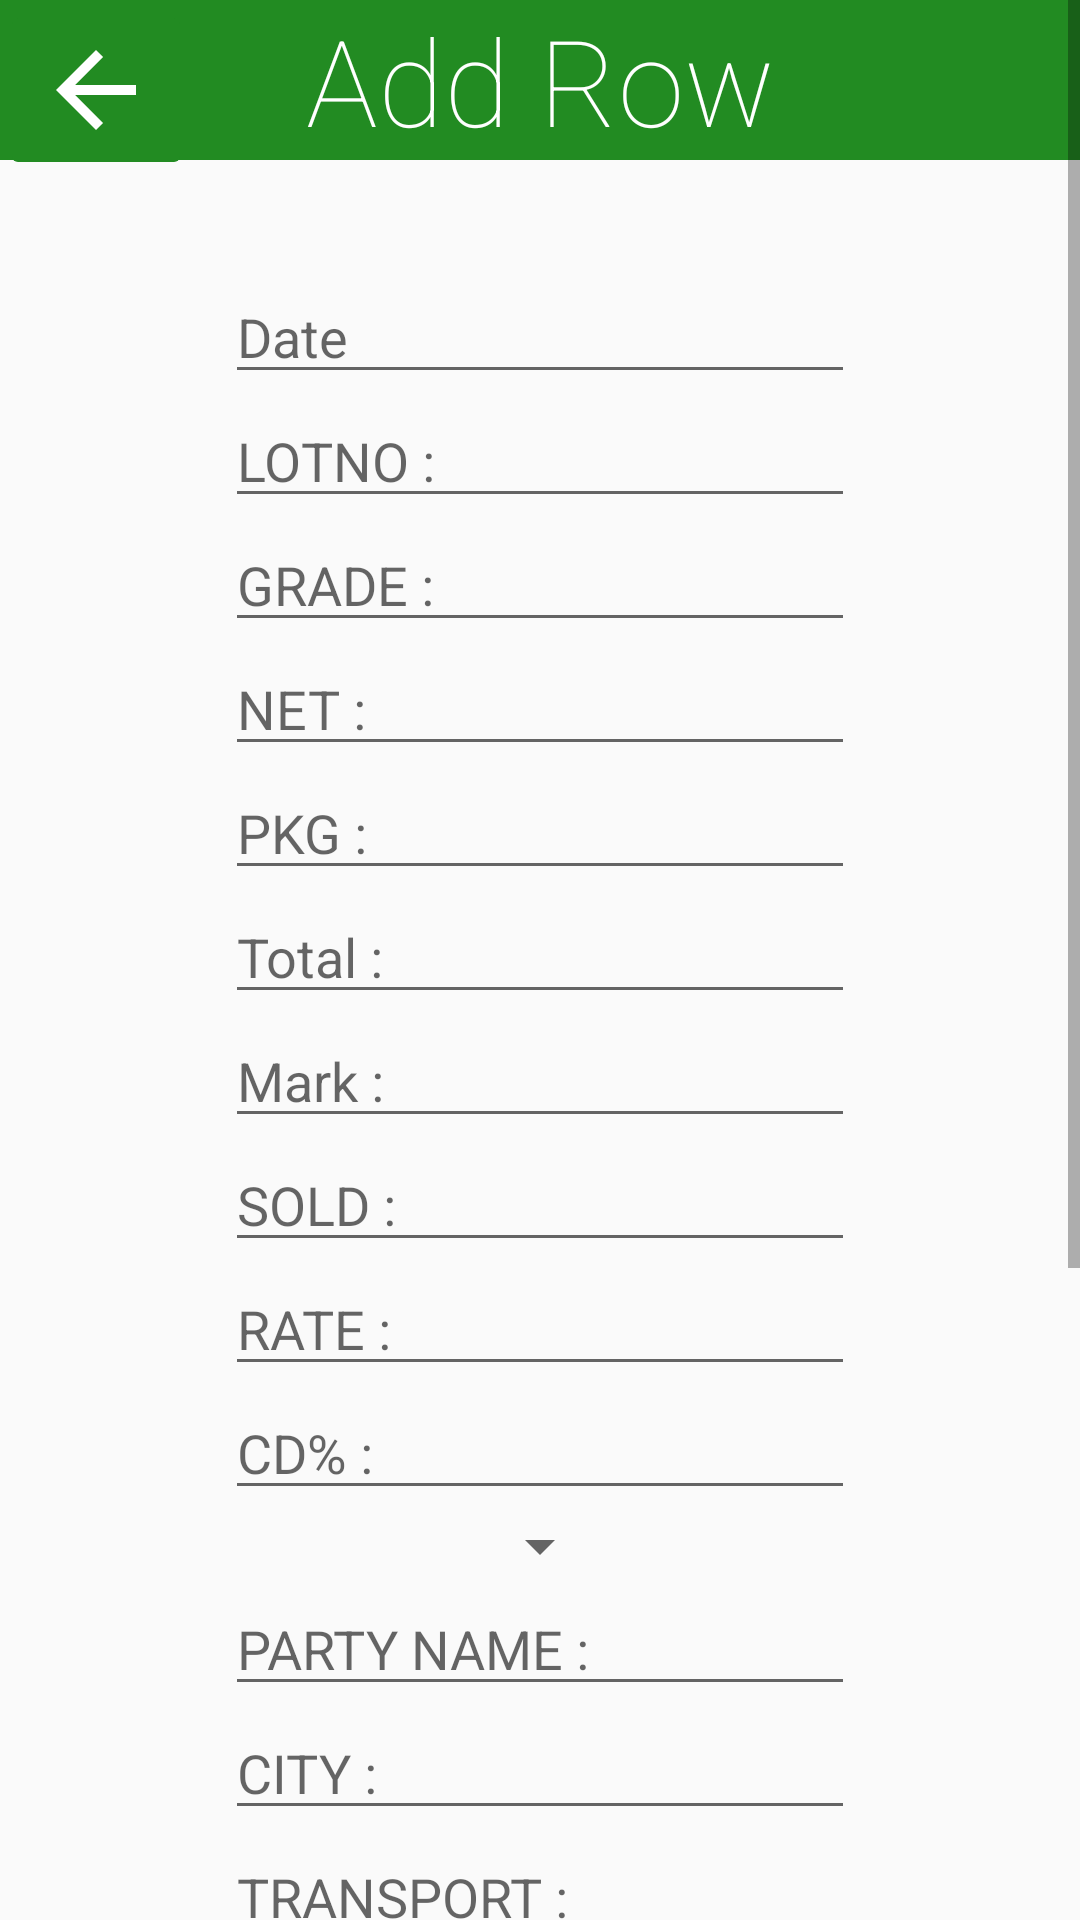

Named icons in this screenshot (1080px×1920px) and their centers, (x=x, y=y):
arrow back: (x=96, y=90)
